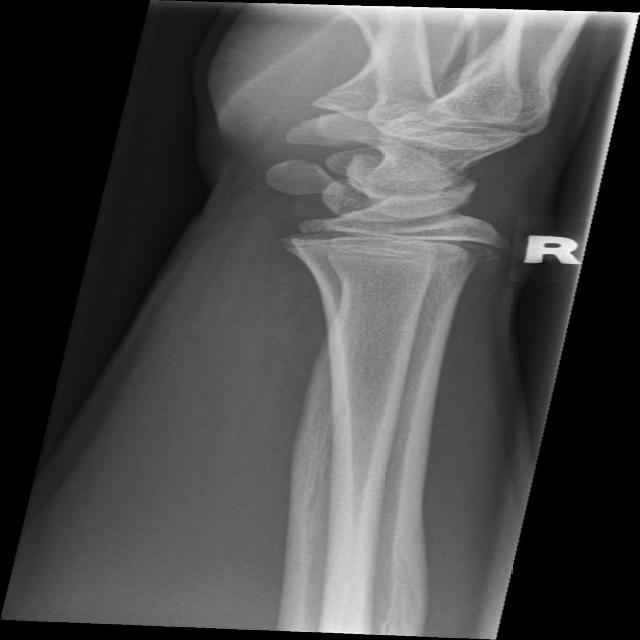fracture: (270, 221, 528, 278)
